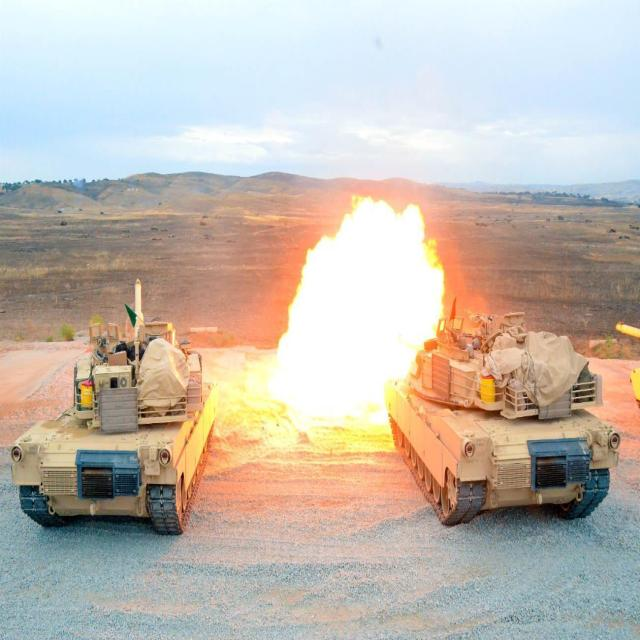Tanks: (386, 275, 624, 527), (9, 265, 216, 542)
